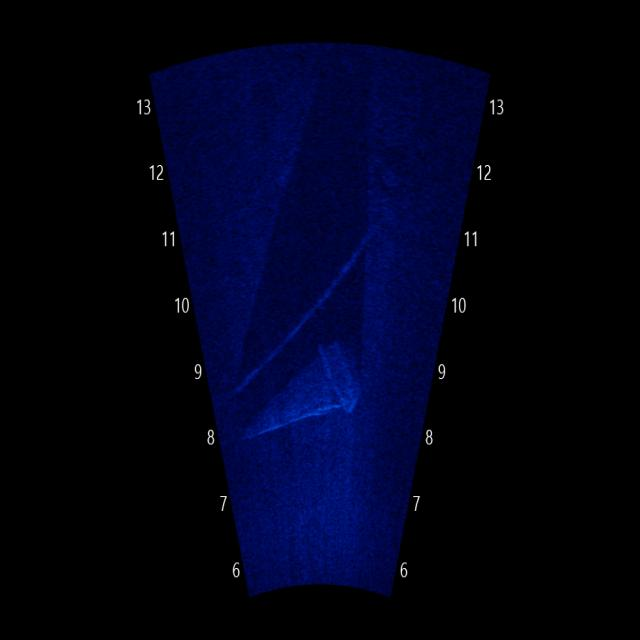circle: (368, 134, 422, 201)
triangle: (232, 332, 370, 454)
